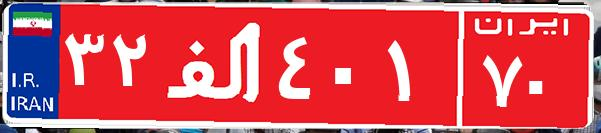0: (330, 28, 385, 110), (525, 38, 570, 115)
1: (385, 28, 445, 110)
2: (110, 28, 158, 105)
3: (57, 26, 110, 107)
4: (273, 28, 330, 110)
7: (475, 38, 525, 113)
الف: (158, 15, 273, 115)
